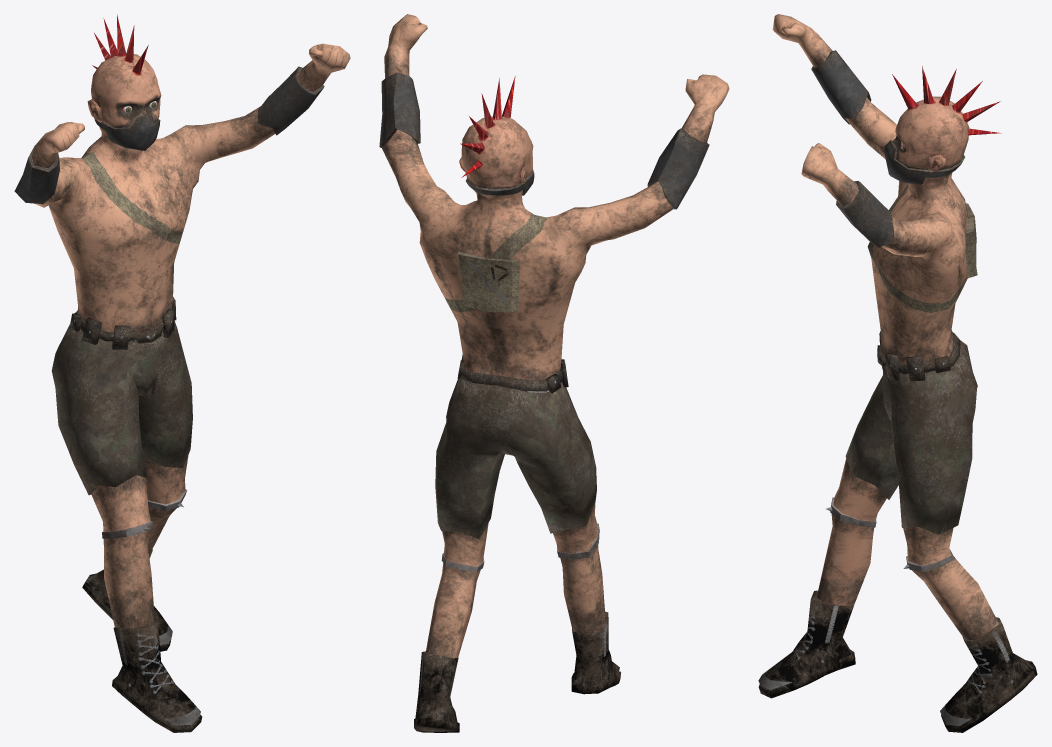
File: Anim_ganar_1_npc2.0021.obj
3 renders of one model, left to right at view 1: azimuth 30°, elevation 25°; view 2: azimuth 150°, elevation 25°; view 3: azimuth 270°, elevation 25°, orthographic. The views are drawn at different scales.
Parts seen in each view (by area): view 1: polySurface1; view 2: polySurface1; view 3: polySurface1.
Boxes of the visible parts, left/top/right/bottom form: polySurface1: left=14, top=14, right=350, bottom=732; polySurface1: left=379, top=14, right=729, bottom=732; polySurface1: left=758, top=14, right=1037, bottom=732.
Size of the model in its own units: 5.24 by 10.35 by 4.06.
